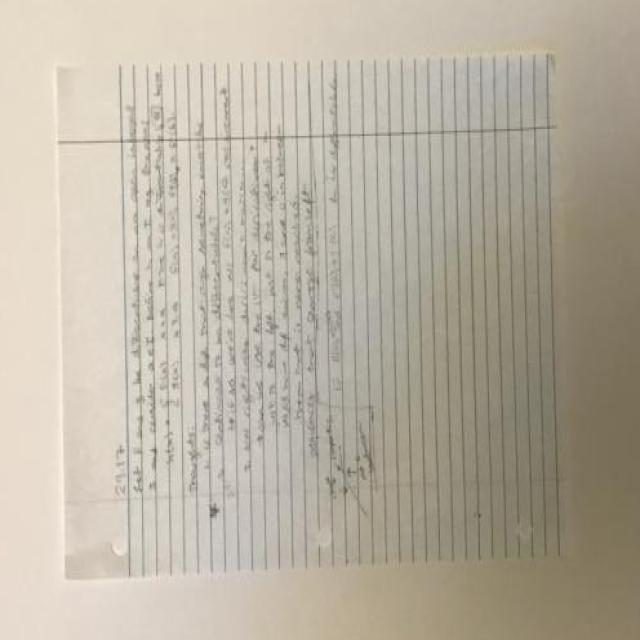kertas: (55, 52, 568, 582)
